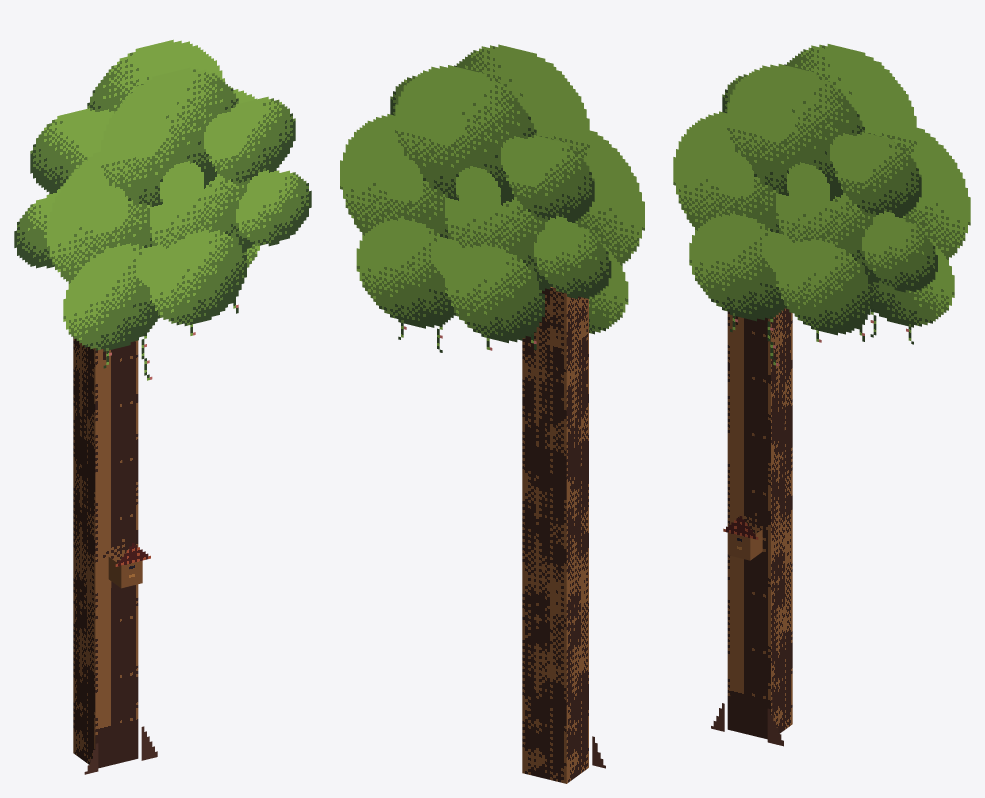
File: tree.glb
The picture shows the model from 3 angles, left to right: view 1: azimuth 30°, elevation 25°; view 2: azimuth 150°, elevation 25°; view 3: azimuth 330°, elevation 25°; orthographic projection. The views are drawn at different scales.
Visible parts, largest first — view 1: tree; view 2: tree; view 3: tree.
Part boxes in pixels (x1,y1,x2,y2): tree: (14,39,311,774); tree: (340,44,644,783); tree: (673,44,970,746).
Bounding box in the file's own units: 98 × 241 × 27.
1 material, 1 textured.
